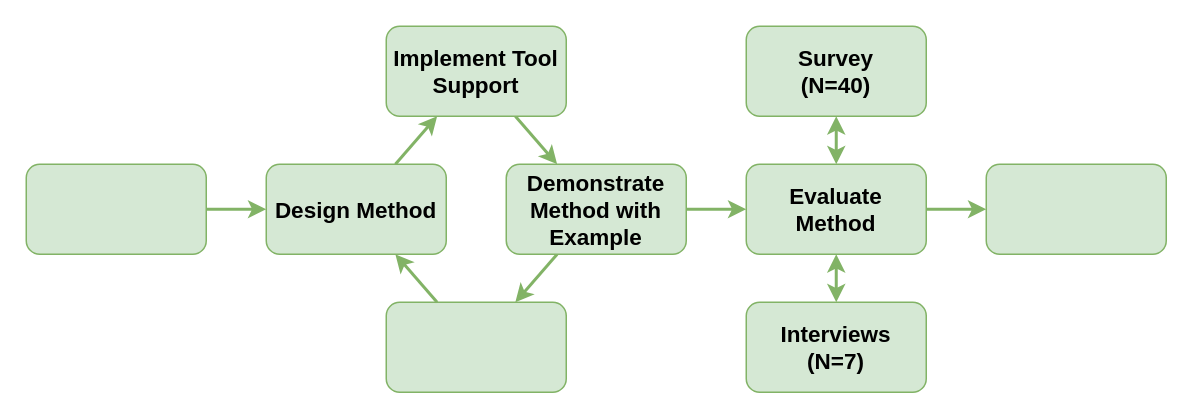
The diagram is 1193 pixels wide and 419 high, and some of its shapes have lost their labels. Each missing label, with the box of its shape:
Analyze and Improve Method: (385, 301, 566, 392)
Analyze Existing Methods: (25, 163, 206, 254)
Improve Method and Tool Support: (985, 163, 1166, 254)
